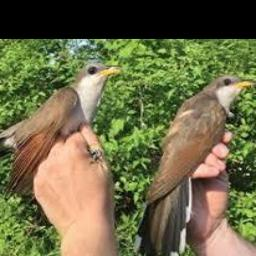Cuckoo: (137, 74, 254, 256), (0, 62, 121, 199)
